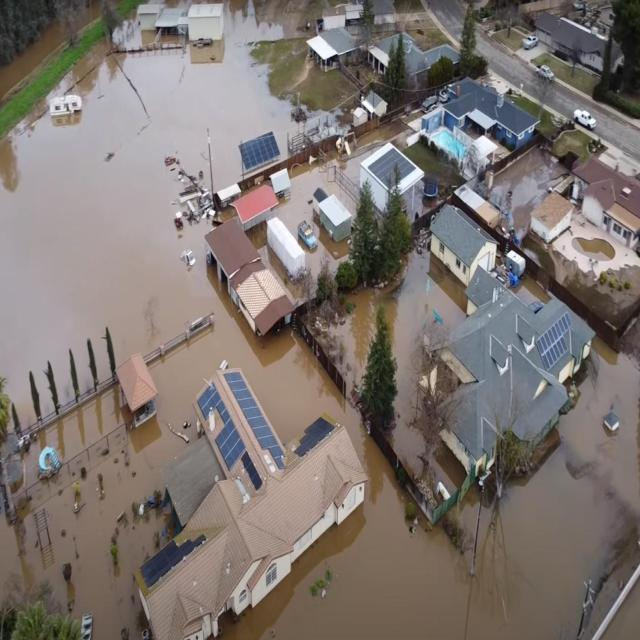flood: (0, 7, 640, 639), (334, 251, 465, 469), (277, 119, 406, 277), (25, 386, 123, 485), (473, 145, 570, 239), (0, 20, 66, 98), (573, 237, 613, 261), (80, 0, 100, 25)
house: (128, 366, 373, 640), (425, 280, 599, 476), (206, 223, 299, 337), (445, 75, 541, 157), (571, 147, 638, 248), (360, 142, 428, 233), (428, 200, 496, 286), (538, 10, 608, 72), (536, 9, 607, 70), (368, 29, 464, 74), (114, 351, 158, 430), (311, 182, 357, 247), (230, 184, 282, 236), (530, 190, 574, 245), (309, 30, 361, 71), (188, 3, 226, 46), (156, 9, 183, 42), (362, 90, 389, 123), (321, 4, 347, 32), (136, 1, 157, 34), (353, 105, 369, 132)
